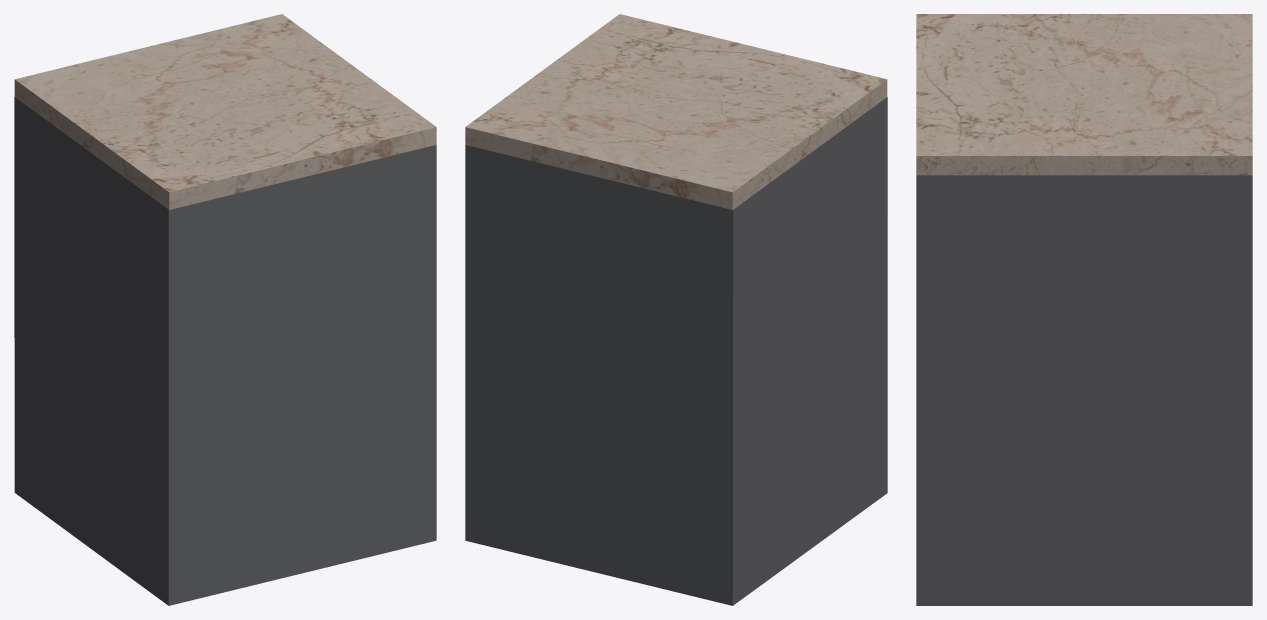
The model's file is table_alone.fbx.
3 views of the same model, side by side, from view 1: azimuth 30°, elevation 25°; view 2: azimuth 150°, elevation 25°; view 3: azimuth 270°, elevation 25° (orthographic). The views are drawn at different scales.
Parts seen in each view (by area): view 1: table_alone; view 2: table_alone; view 3: table_alone.
Part boxes in pixels (x1,y1,x2,y2): table_alone: (14,14,436,605); table_alone: (465,14,887,605); table_alone: (916,14,1252,605).
Size of the model in its own units: 17.13 by 17.11 by 25.26.
2 materials, 1 textured.
